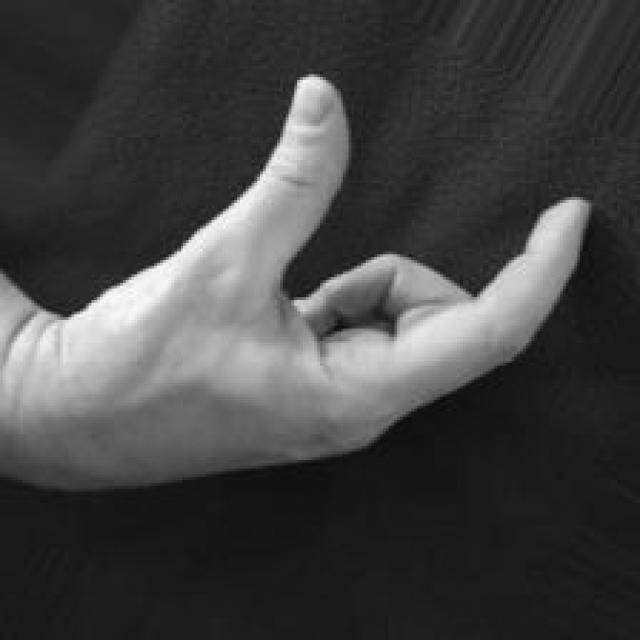U: (62, 67, 592, 501)
